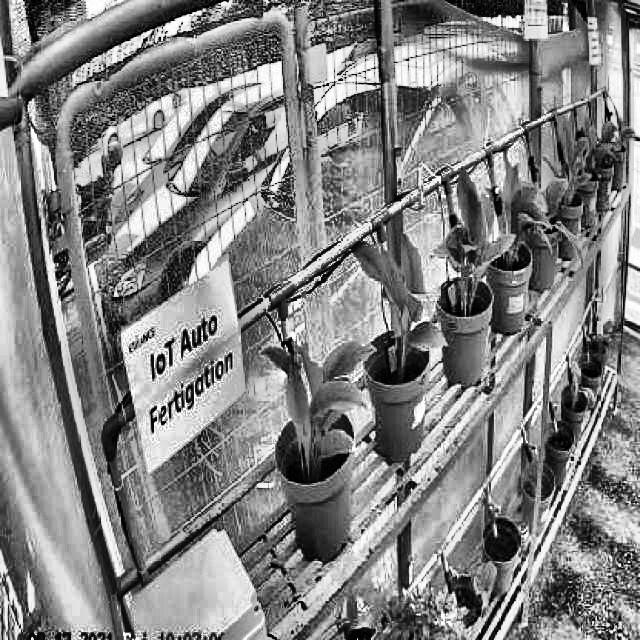plants: (264, 338, 380, 470), (351, 235, 447, 354), (437, 163, 511, 297), (502, 159, 546, 263), (565, 120, 593, 200)
